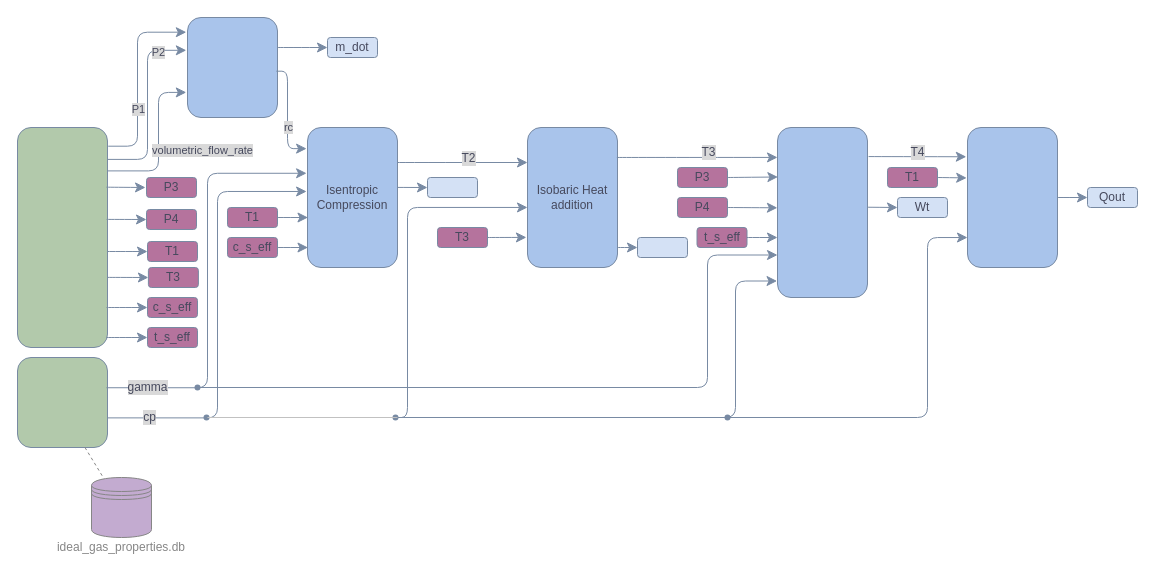
This 1155x575 diagram has some shape labels left out. Here are the shapes that lost their labels. From the top down, the box of each, then its label:
(186, 16, 278, 118): Preliminary calculations
(426, 176, 478, 198): Wc
(966, 126, 1058, 268): Isobaric Heat rejection
(776, 126, 868, 298): Isentropic Expansion
(16, 126, 108, 348): Initial Conditions
(636, 236, 688, 258): Qin
(16, 356, 108, 448): Fluid properties
